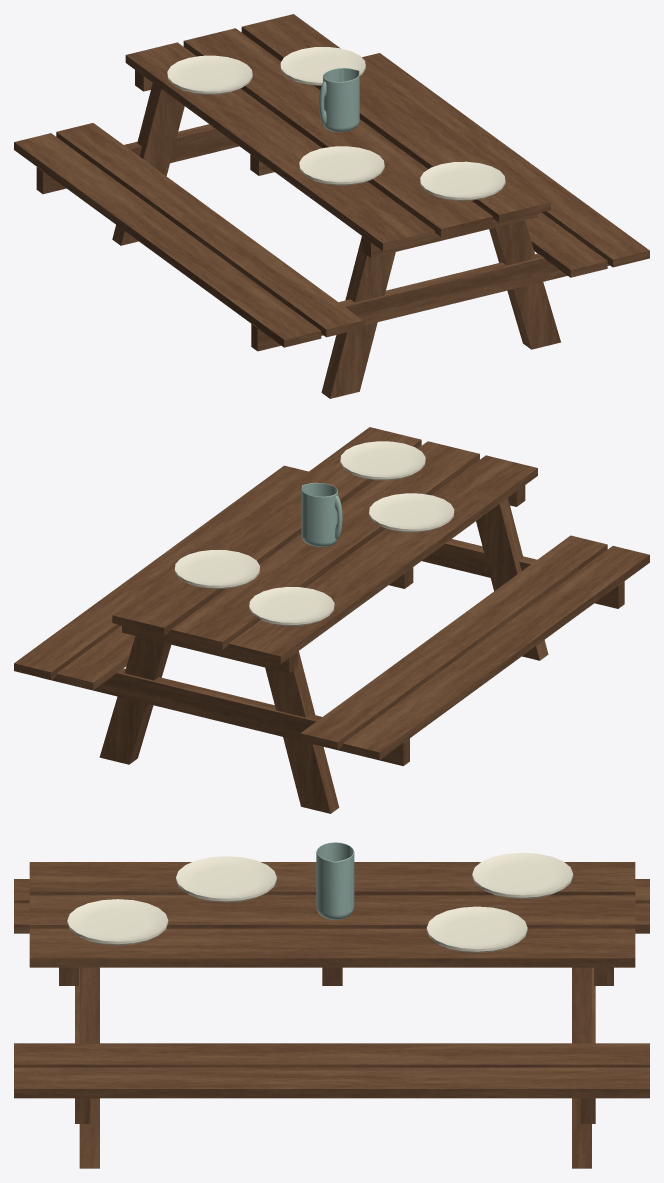
The picture shows the model from 3 angles, top to bottom: view 1: azimuth 30°, elevation 25°; view 2: azimuth 150°, elevation 25°; view 3: azimuth 270°, elevation 25°; orthographic projection. The views are drawn at different scales.
Parts seen in each view (by area): view 1: board10, plate3, plate2, plate1, Cup1, plate; view 2: board10, plate3, plate1, plate2, plate, Cup1; view 3: board10, plate2, plate, plate3, plate1, Cup1.
Part boxes in pixels (x1,y1,x2,y2): board10: [14, 14, 649, 398]; plate3: [299, 146, 384, 185]; plate2: [167, 55, 252, 94]; plate1: [420, 161, 505, 200]; Cup1: [319, 68, 359, 132]; plate: [280, 47, 365, 85]; board10: [14, 427, 649, 813]; plate3: [369, 493, 454, 532]; plate1: [340, 441, 425, 480]; plate2: [249, 587, 334, 625]; plate: [174, 550, 259, 588]; Cup1: [301, 482, 342, 546]; board10: [14, 862, 649, 1168]; plate2: [472, 852, 573, 898]; plate: [426, 906, 527, 952]; plate3: [176, 856, 276, 902]; plate1: [67, 899, 168, 945]; Cup1: [316, 842, 354, 919].
Size of the model in its own units: 4.93 by 2.77 by 6.3.
Materials: 3 (1 with a texture image).
